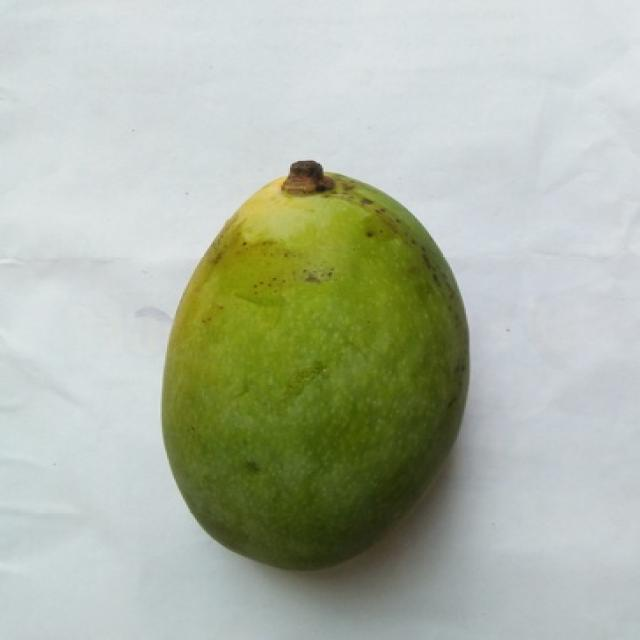Mango: (162, 161, 468, 568)
